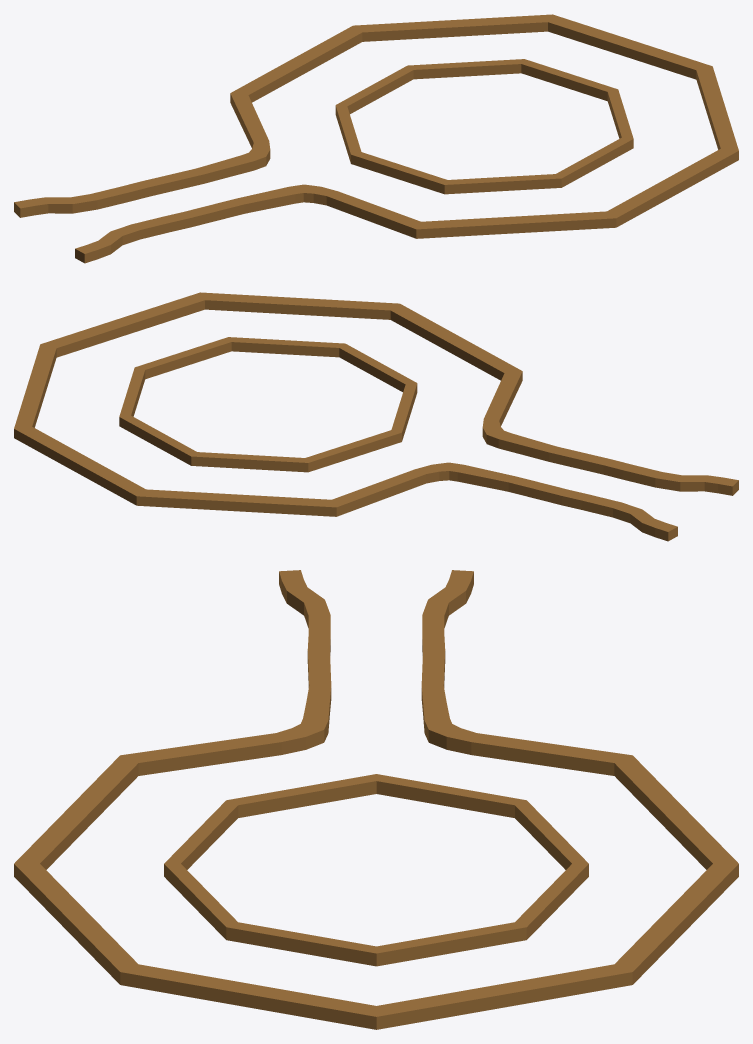
File: inside-path.gltf
The picture shows the model from 3 angles, top to bottom: view 1: azimuth 30°, elevation 25°; view 2: azimuth 150°, elevation 25°; view 3: azimuth 270°, elevation 25°; orthographic projection. The views are drawn at different scales.
Parts seen in each view (by area): view 1: Circle.003; view 2: Circle.003; view 3: Circle.003.
Boxes of the visible parts, x1,y1,x2,y2 form: Circle.003: (14,14,738,263); Circle.003: (14,292,738,541); Circle.003: (14,570,738,1029).
Bounding box in the file's own units: 1.09 × 0.0148 × 0.7488.
1 material, 1 textured.
